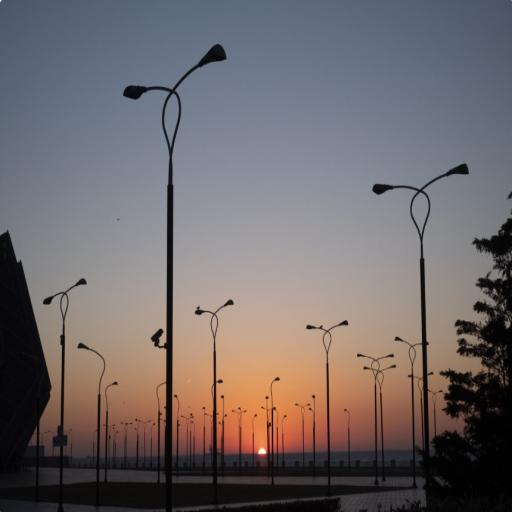off street light: (118, 24, 226, 290), (358, 146, 474, 336), (40, 275, 93, 436), (298, 306, 352, 430), (189, 296, 241, 416), (77, 337, 116, 434)
